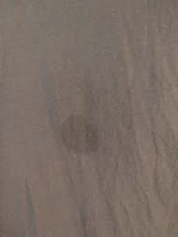oil: (59, 113, 106, 157)
